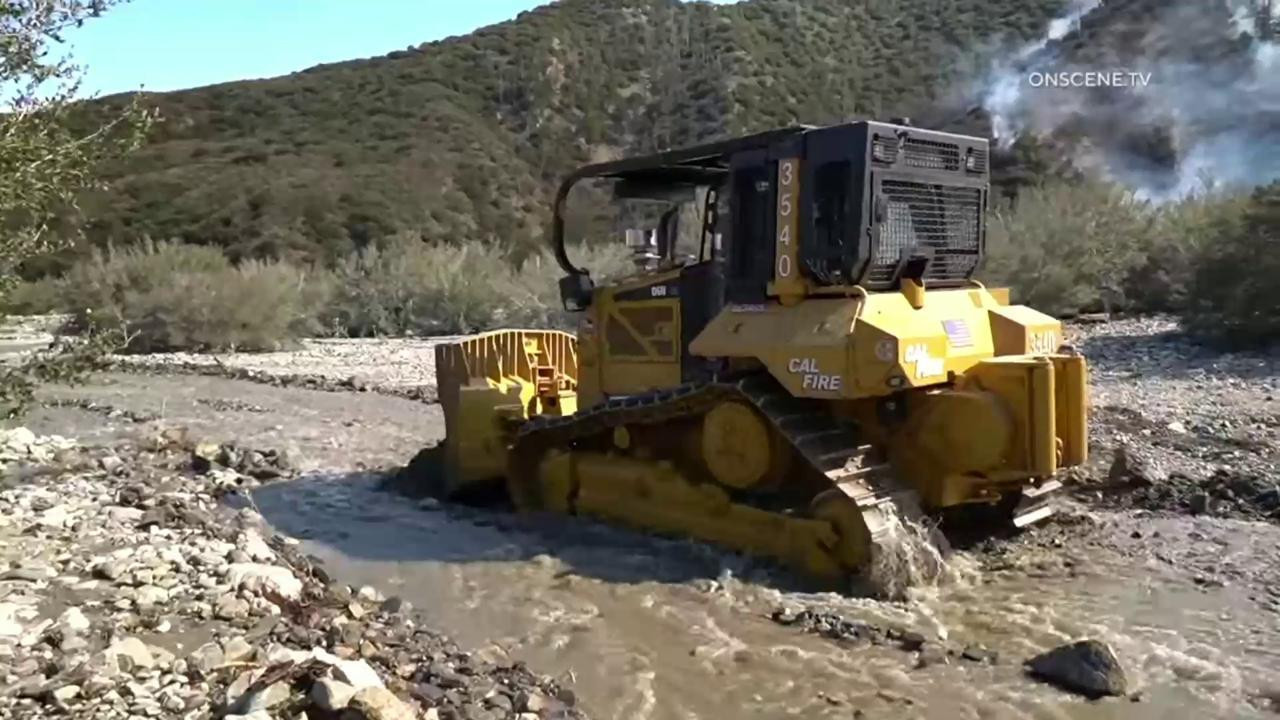smoke: (978, 0, 1280, 208)
